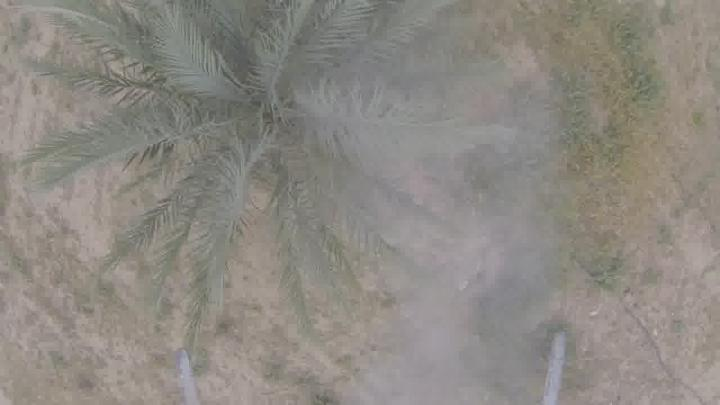Date-Palm-Crown: (110, 10, 390, 228)
